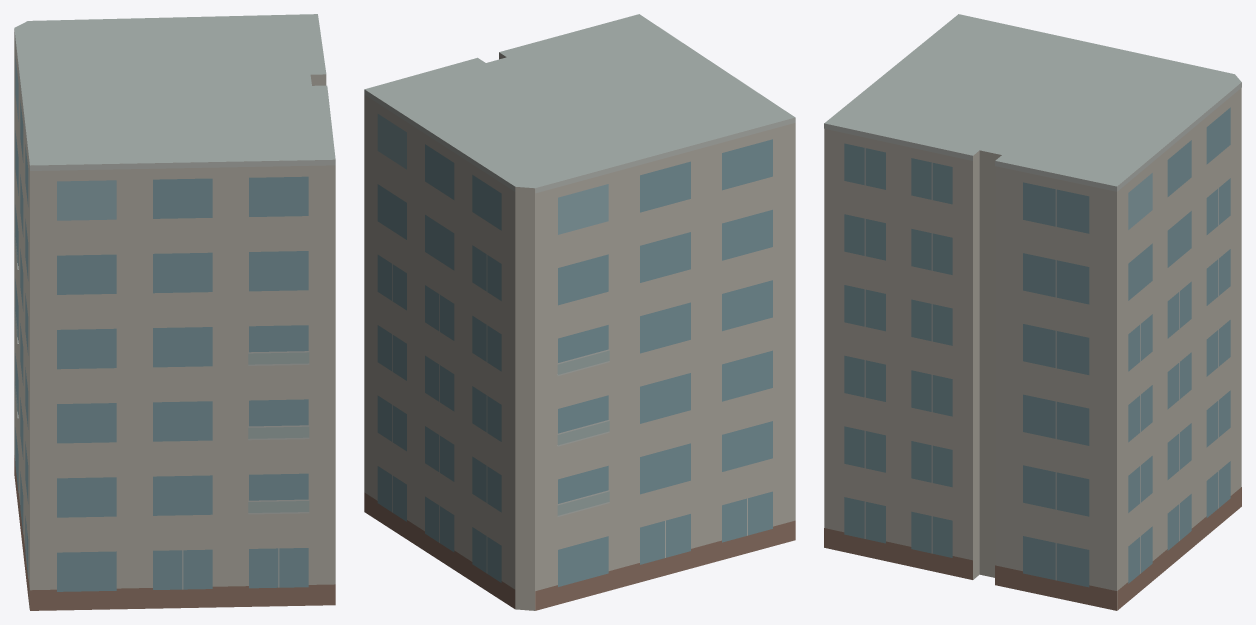
Rendered from survey-upis-33007607.glb.
3 renders of one model, left to right at view 1: azimuth 30°, elevation 25°; view 2: azimuth 150°, elevation 25°; view 3: azimuth 270°, elevation 25°, orthographic. The views are drawn at different scales.
Parts seen in each view (by area): view 1: survey-upis-33007607.tmp; view 2: survey-upis-33007607.tmp; view 3: survey-upis-33007607.tmp.
Boxes of the visible parts, x1,y1,x2,y2 form: survey-upis-33007607.tmp: [14, 14, 335, 610]; survey-upis-33007607.tmp: [364, 14, 795, 610]; survey-upis-33007607.tmp: [824, 14, 1241, 610].
Bounding box in the file's own units: 17.02 × 19.5 × 17.4.
